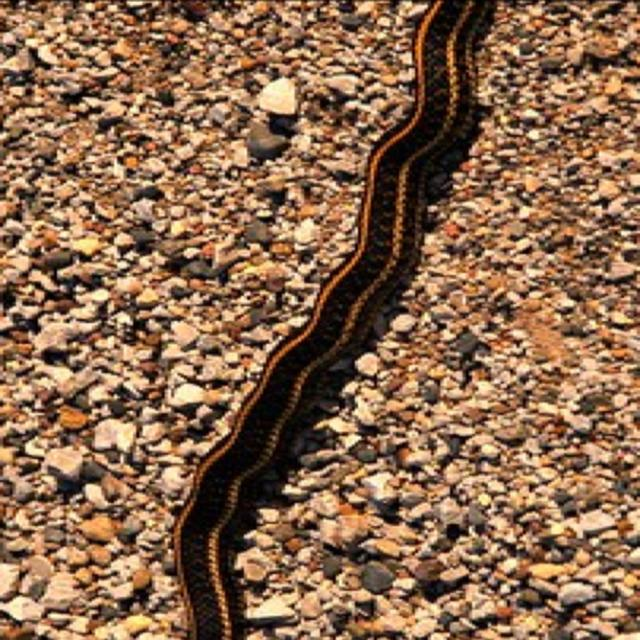Snake: (105, 0, 614, 640)
